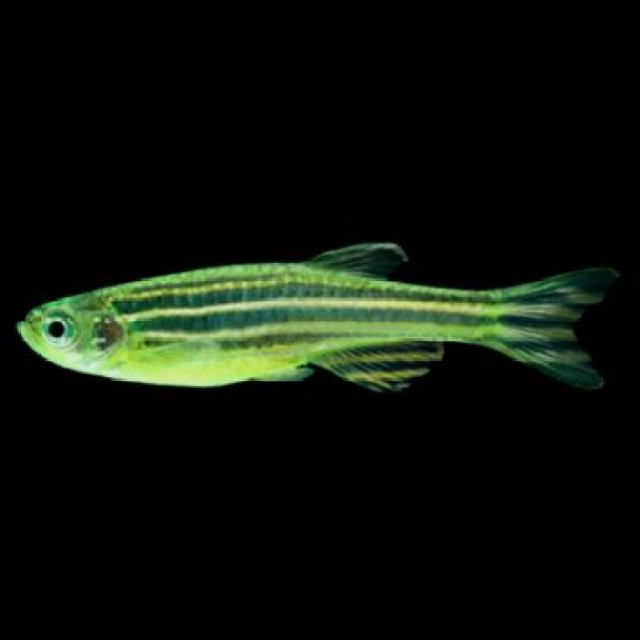ZebraFish: (21, 238, 622, 398)
